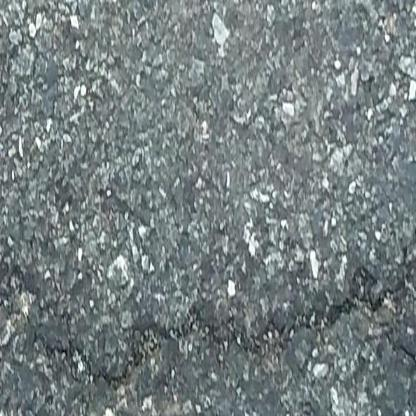Cracks: (0, 267, 416, 386)
